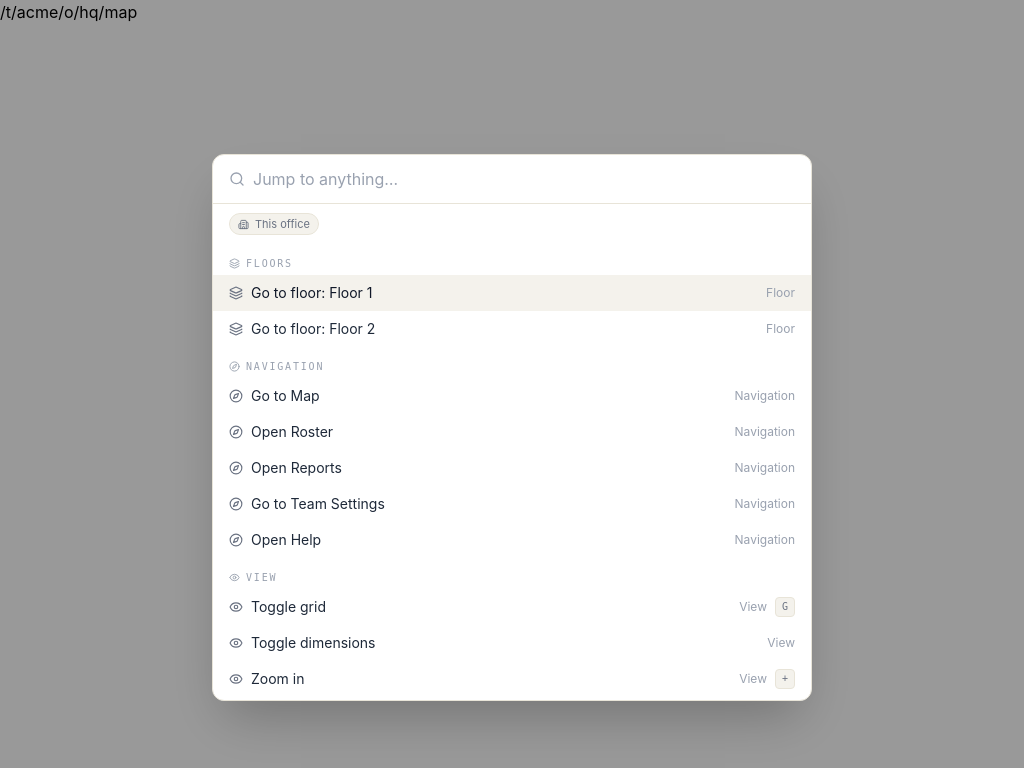
Scenario: CommandPalette › filter string narrows the visible list (case-insensitive substring)
Check: the button with test id "command-palette-item-floor-f1" is shown, box [213,275,811,311]
Check: the button with test id "command-palette-item-nav-roster" is shown, box [213,414,811,450]
Type "floor 2" into the field with test id "command-palette-input" at {"x": 524, "y": 179}, box [253,167,795,191]
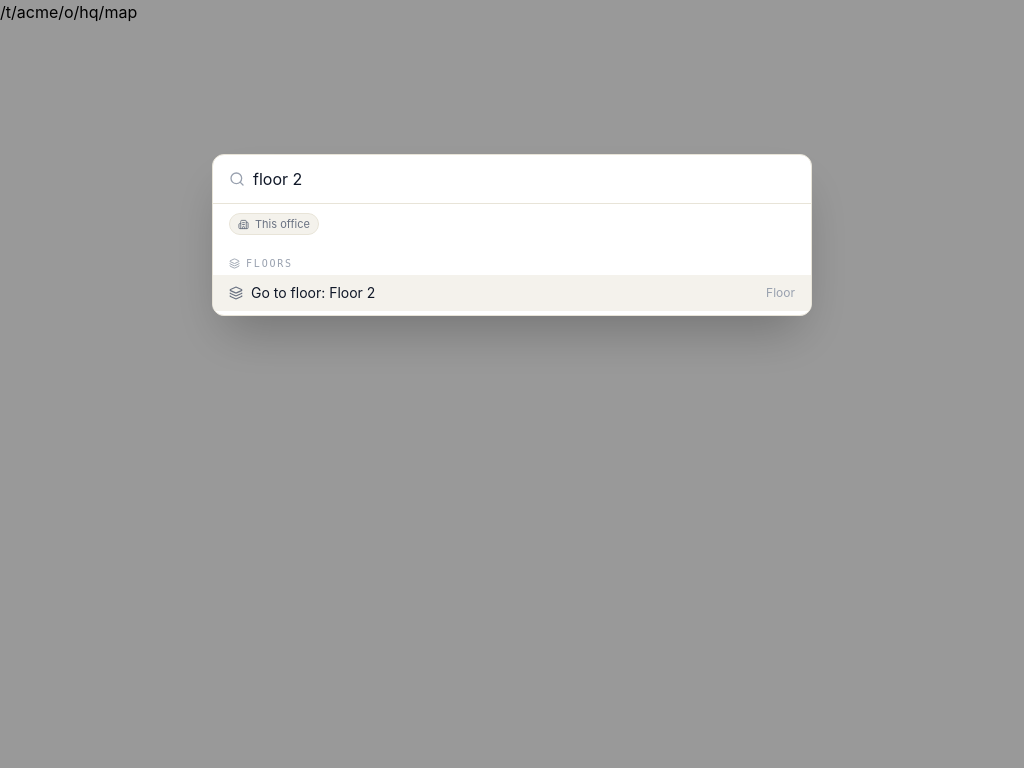
Check: the button with test id "command-palette-item-floor-f1" is gone
Check: the button with test id "command-palette-item-nav-roster" is gone
Check: the button with test id "command-palette-item-view-toggle-grid" is gone
